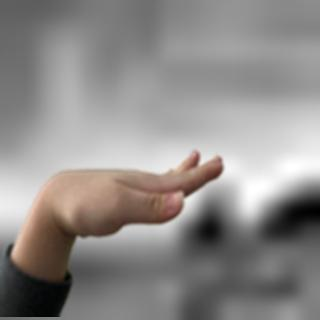Wait: (23, 146, 236, 251)
